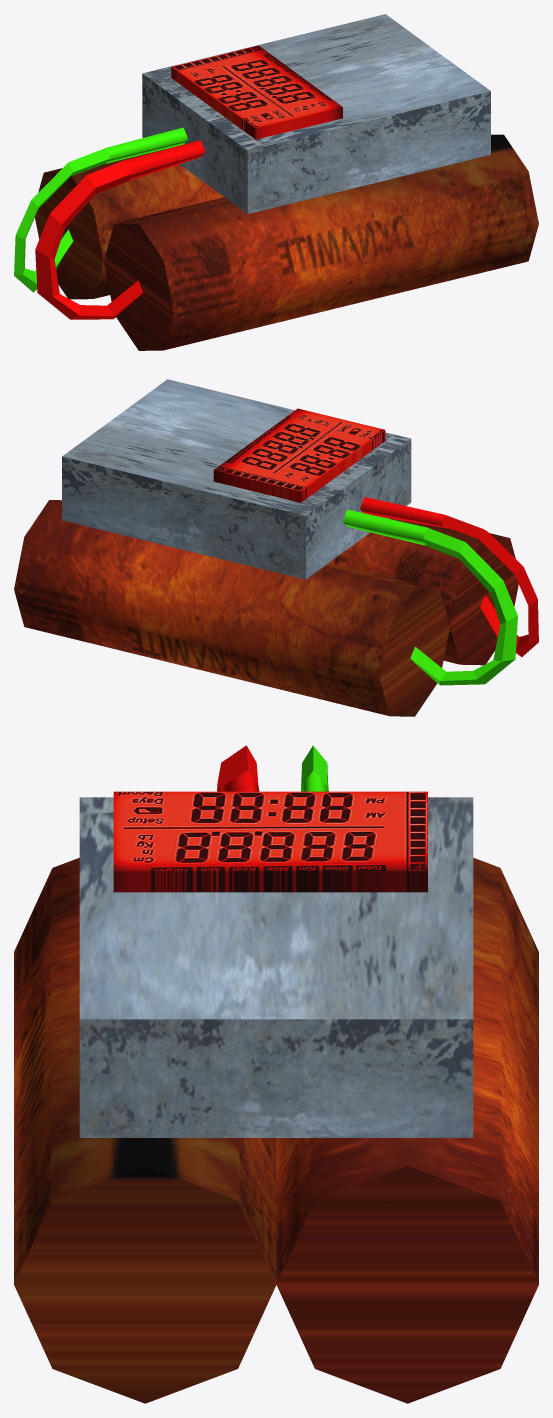
File: explosives.FBX
3 views of the same model, one above another, from view 1: azimuth 30°, elevation 25°; view 2: azimuth 150°, elevation 25°; view 3: azimuth 270°, elevation 25° (orthographic). The views are drawn at different scales.
Visible parts, largest first — view 1: Cylinder001, Box001, Cylinder002, Cylinder003, Object001; view 2: Cylinder002, Box001, Cylinder001, Object001, Cylinder003; view 3: Box001, Cylinder001, Cylinder002, Cylinder003, Object001.
Part boxes in pixels (<box>): Cylinder001: <box>103,134,538,350</box>; Box001: <box>142,14,490,213</box>; Cylinder002: <box>35,150,223,299</box>; Cylinder003: <box>35,140,205,319</box>; Object001: <box>14,127,188,292</box>; Cylinder002: <box>14,500,449,716</box>; Box001: <box>62,379,411,579</box>; Cylinder001: <box>329,518,518,665</box>; Object001: <box>342,509,517,685</box>; Cylinder003: <box>360,497,538,656</box>; Box001: <box>79,791,473,1137</box>; Cylinder001: <box>14,858,276,1403</box>; Cylinder002: <box>276,858,538,1403</box>; Cylinder003: <box>217,745,259,791</box>; Object001: <box>301,745,328,791</box>.
Size of the model in its own units: 12.14 by 5.3 by 6.67.
